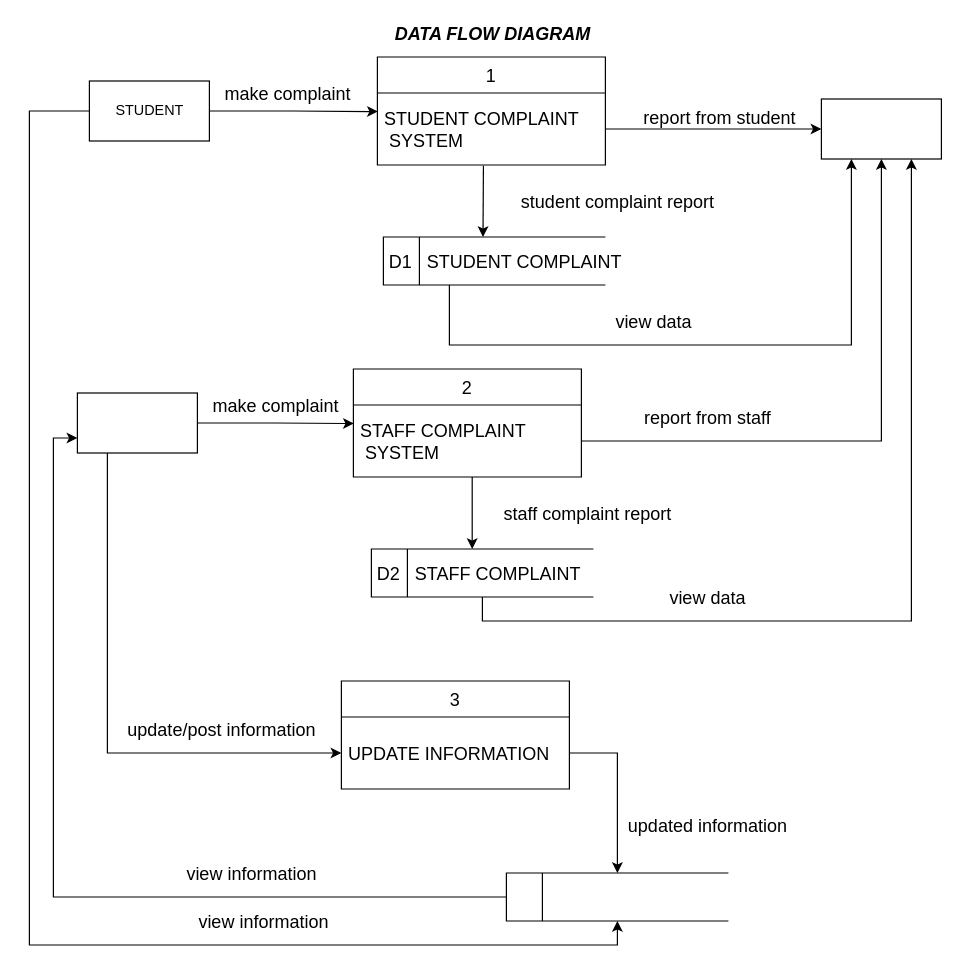
Some shapes in this 962 by 976 pixel diagram are drawn without their labels. The shapes that lost their labels are listed below. From the top down, each one's centre as x and y in pixels, then its label:
point 880,128: ADMIN
point 136,422: STAFF
point 616,896: D3 INFORMATION
